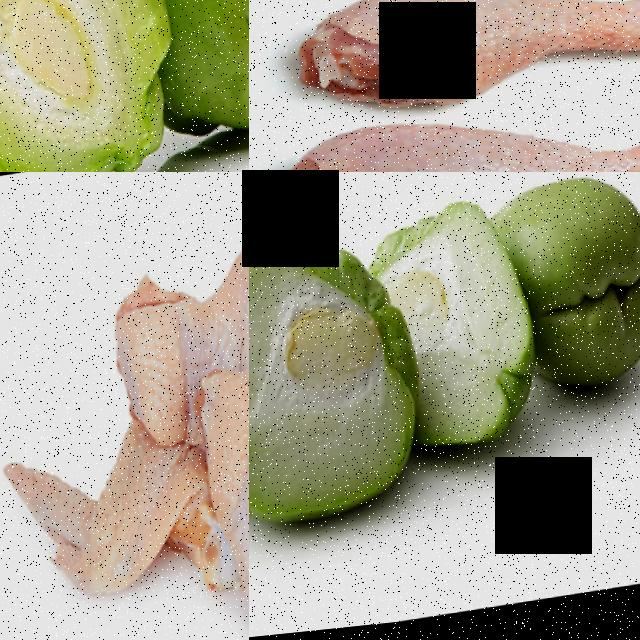chayote: (249, 192, 415, 530), (384, 172, 532, 489), (514, 172, 640, 424), (101, 0, 249, 172), (0, 0, 133, 172)
chicken thigh: (280, 0, 640, 129), (257, 80, 640, 172)
chicken wing: (0, 421, 224, 630), (108, 196, 249, 436)
